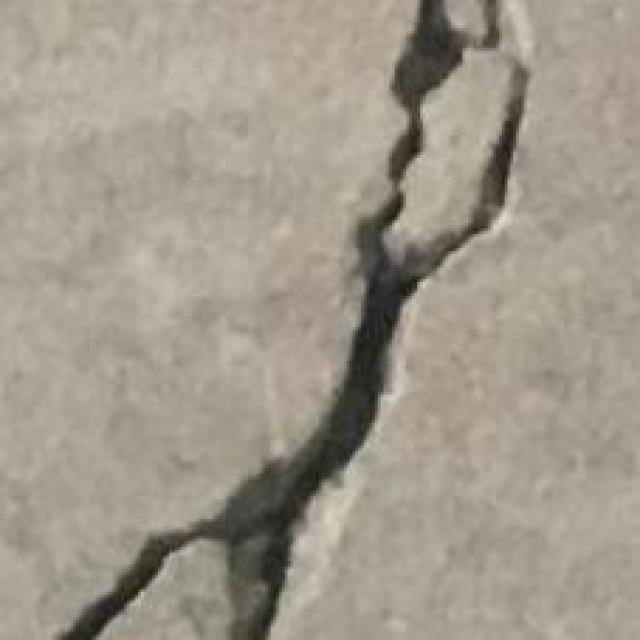branched cracks: (60, 0, 527, 639)
